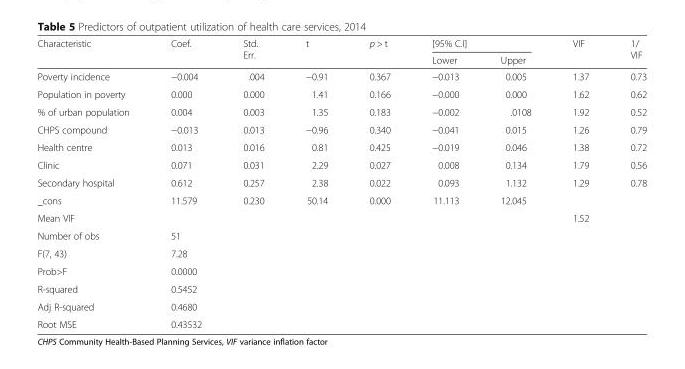table: (36, 37, 646, 329)
table column: (36, 37, 149, 329), (149, 37, 221, 329), (479, 37, 551, 329), (410, 37, 479, 329), (221, 37, 284, 329), (284, 37, 347, 329), (347, 37, 410, 329), (551, 37, 609, 329), (609, 37, 646, 329)
table column header: (36, 37, 646, 67)
table row: (36, 84, 646, 102), (36, 102, 646, 120), (36, 137, 646, 155), (36, 155, 646, 173), (36, 173, 646, 191), (36, 208, 646, 226), (36, 226, 646, 244), (36, 244, 646, 262), (36, 279, 646, 297), (36, 297, 646, 315), (36, 67, 646, 84), (36, 120, 646, 137), (36, 191, 646, 208), (36, 262, 646, 279), (36, 51, 646, 67), (36, 37, 646, 51), (36, 315, 646, 329)
table spanning cell: (36, 37, 149, 67), (149, 37, 221, 67), (410, 37, 551, 51), (221, 37, 284, 67), (284, 37, 347, 67), (347, 37, 410, 67), (551, 37, 609, 67), (609, 37, 646, 67)
